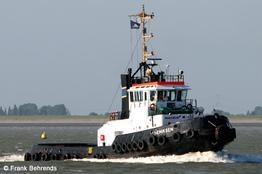otherboat: (20, 4, 236, 163)
